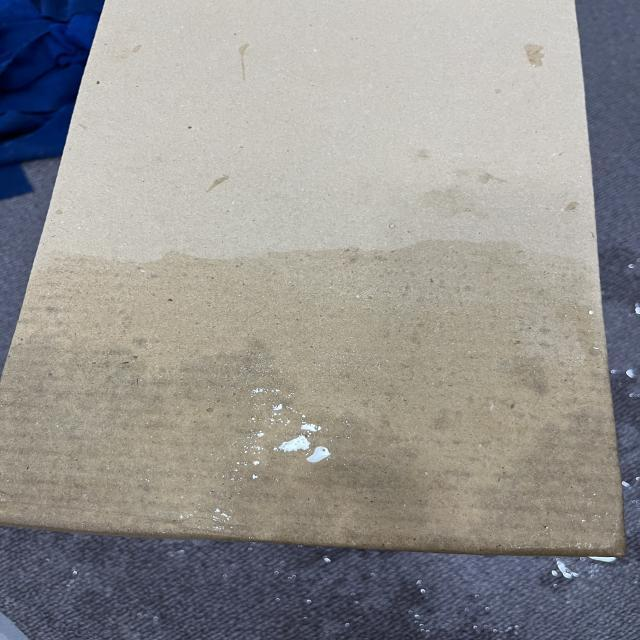wet: (0, 199, 610, 527)
